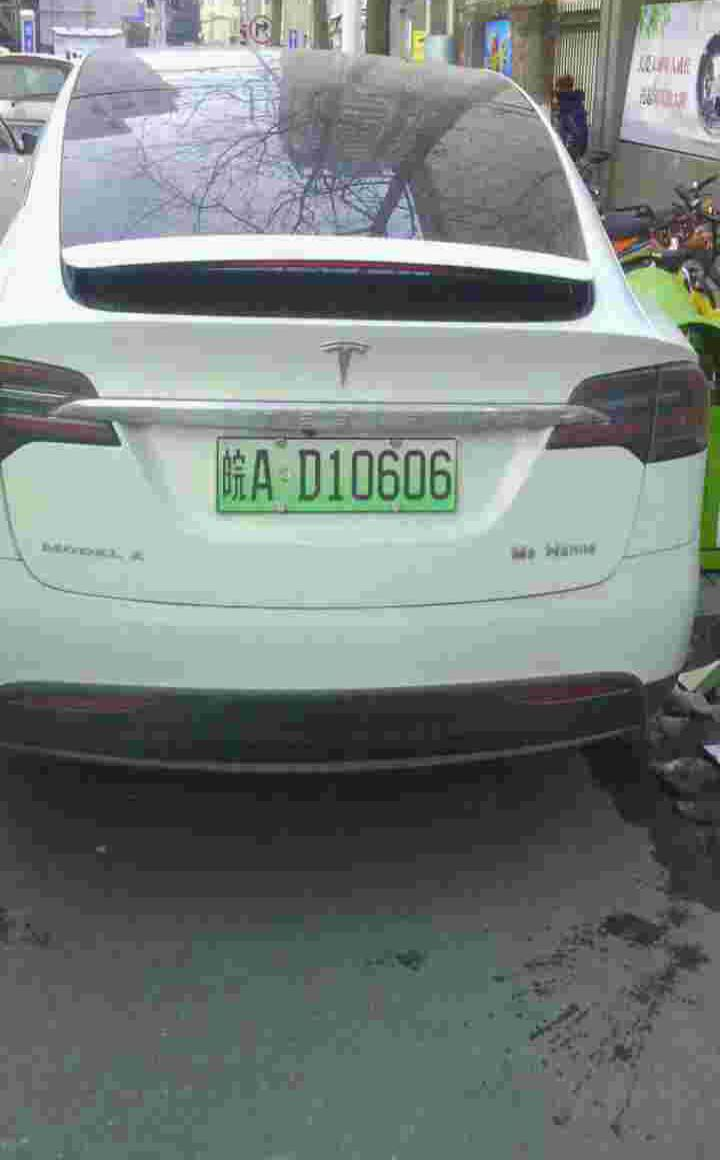car_green: (215, 429, 464, 521)
